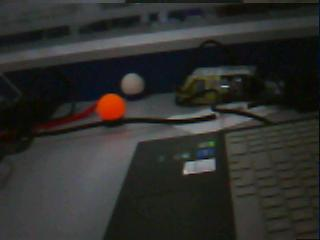oball: (97, 92, 124, 122)
